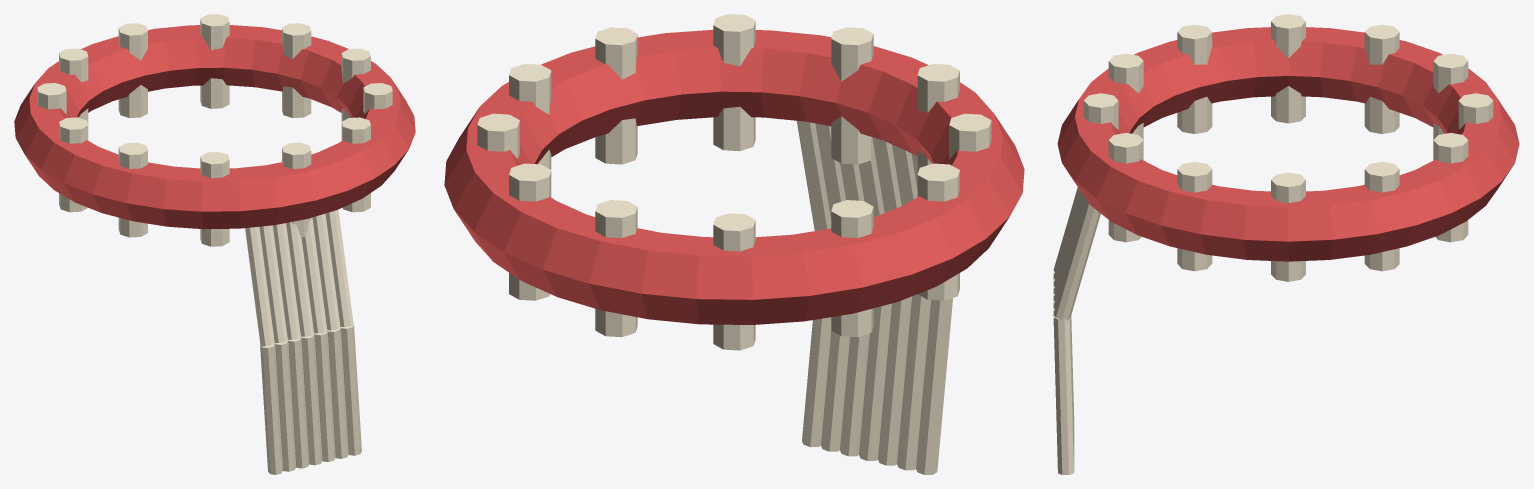
Rendered from costume_hachimaki.glb.
3 views of the same model, side by side, from view 1: azimuth 30°, elevation 25°; view 2: azimuth 150°, elevation 25°; view 3: azimuth 270°, elevation 25° (orthographic). The views are drawn at different scales.
Parts seen in each view (by area): view 1: Rounded ceremonial wearer headband, Double tied headband tails_01, Double tied headband tails_00, Double tied headband tails_01.003, Double tied headband tails_01.001, Double tied headband tails_01.005, Double tied headband tails_01.006, Double tied headband tails_01.002, Double tied headband tails_01.004, Twisted cotton hachimaki band_00.002, Double tied headband tails_00.001, Double tied headband tails_00.006 (+15 smaller); view 2: Rounded ceremonial wearer headband, Double tied headband tails_01, Double tied headband tails_01.001, Twisted cotton hachimaki band_00.010, Twisted cotton hachimaki band_00.011, Double tied headband tails_01.002, Twisted cotton hachimaki band_00.009, Double tied headband tails_01.003, Double tied headband tails_01.006, Twisted cotton hachimaki band_00.004, Twisted cotton hachimaki band_00.003, Twisted cotton hachimaki band_00.005 (+14 smaller); view 3: Rounded ceremonial wearer headband, Double tied headband tails_01.006, Twisted cotton hachimaki band_00.006, Twisted cotton hachimaki band_00.005, Twisted cotton hachimaki band_00.007, Double tied headband tails_00.006, Twisted cotton hachimaki band_00, Twisted cotton hachimaki band_00.001, Twisted cotton hachimaki band_00.011, Twisted cotton hachimaki band_00.010, Twisted cotton hachimaki band_00.002, Twisted cotton hachimaki band_00.008 (+3 smaller).
Boxes of the visible parts, x1,y1,x2,y2 form: Rounded ceremonial wearer headband: [14, 25, 415, 229]; Double tied headband tails_01: [260, 344, 282, 474]; Double tied headband tails_00: [245, 226, 274, 346]; Double tied headband tails_01.003: [301, 334, 322, 465]; Double tied headband tails_01.001: [274, 341, 296, 471]; Double tied headband tails_01.005: [327, 328, 348, 458]; Double tied headband tails_01.006: [340, 324, 361, 455]; Double tied headband tails_01.002: [288, 337, 309, 468]; Double tied headband tails_01.004: [314, 331, 335, 461]; Twisted cotton hachimaki band_00.002: [200, 14, 229, 108]; Double tied headband tails_00.001: [259, 225, 287, 342]; Double tied headband tails_00.006: [325, 209, 353, 326]; Rounded ceremonial wearer headband: [444, 30, 1024, 324]; Double tied headband tails_01: [916, 298, 952, 474]; Double tied headband tails_01.001: [897, 294, 930, 470]; Twisted cotton hachimaki band_00.010: [713, 14, 755, 151]; Twisted cotton hachimaki band_00.011: [595, 27, 637, 164]; Double tied headband tails_01.002: [878, 296, 911, 465]; Twisted cotton hachimaki band_00.009: [831, 27, 873, 164]; Double tied headband tails_01.003: [859, 303, 891, 460]; Double tied headband tails_01.006: [802, 317, 831, 447]; Twisted cotton hachimaki band_00.004: [713, 213, 755, 350]; Twisted cotton hachimaki band_00.003: [595, 200, 637, 337]; Twisted cotton hachimaki band_00.005: [831, 200, 873, 337]; Rounded ceremonial wearer headband: [1057, 27, 1519, 261]; Double tied headband tails_01.006: [1053, 315, 1074, 474]; Twisted cotton hachimaki band_00.006: [1271, 14, 1305, 123]; Twisted cotton hachimaki band_00.005: [1364, 24, 1399, 133]; Twisted cotton hachimaki band_00.007: [1177, 24, 1212, 133]; Double tied headband tails_00.006: [1053, 200, 1100, 320]; Twisted cotton hachimaki band_00: [1271, 172, 1305, 281]; Twisted cotton hachimaki band_00.001: [1364, 162, 1399, 271]; Twisted cotton hachimaki band_00.011: [1177, 162, 1212, 271]; Twisted cotton hachimaki band_00.010: [1108, 133, 1143, 242]; Twisted cotton hachimaki band_00.002: [1433, 133, 1468, 242]; Twisted cotton hachimaki band_00.008: [1108, 53, 1143, 139].
Size of the model in its own units: 1.92 by 1.6 by 1.94.
